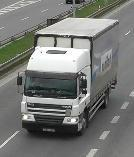truck: (17, 19, 119, 137)
